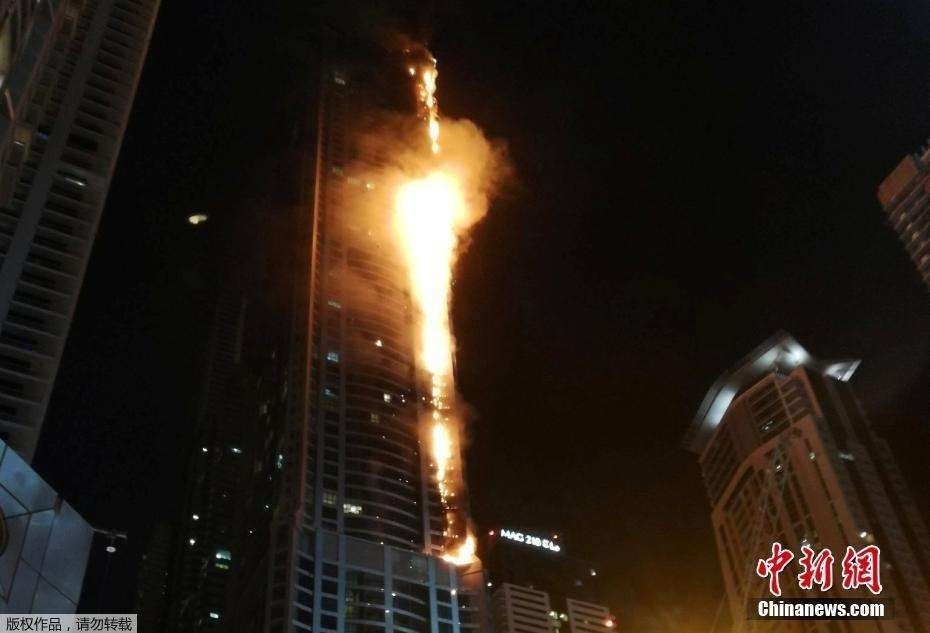fire: (392, 53, 491, 567)
